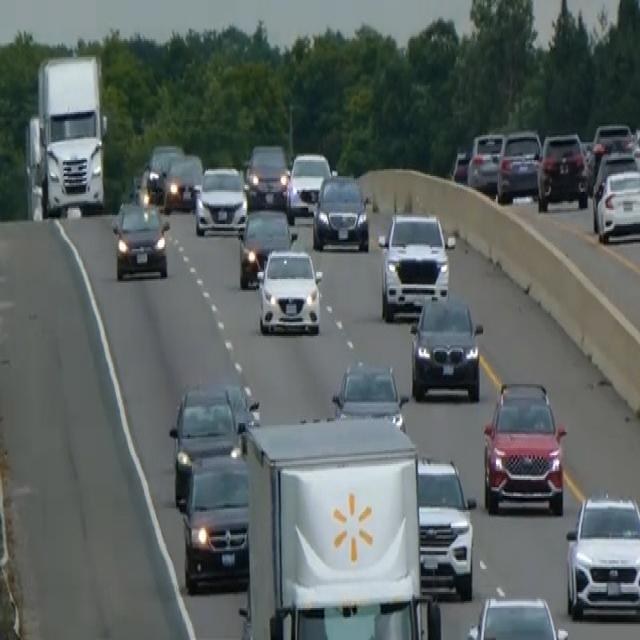car: (481, 378, 567, 516), (168, 379, 259, 503), (177, 448, 250, 594), (564, 491, 639, 622), (415, 453, 476, 599), (377, 208, 453, 320), (409, 290, 483, 402), (255, 245, 323, 336), (330, 357, 408, 432), (111, 195, 170, 281), (237, 206, 295, 288), (311, 170, 369, 250), (465, 594, 568, 638), (536, 130, 589, 212), (194, 164, 247, 236), (593, 166, 639, 243), (285, 149, 331, 224), (496, 128, 542, 203), (587, 121, 634, 188), (244, 140, 289, 208), (140, 142, 183, 203), (162, 151, 203, 212), (466, 130, 504, 192), (451, 146, 470, 185)
lorry: (238, 411, 438, 638), (24, 52, 108, 220)
